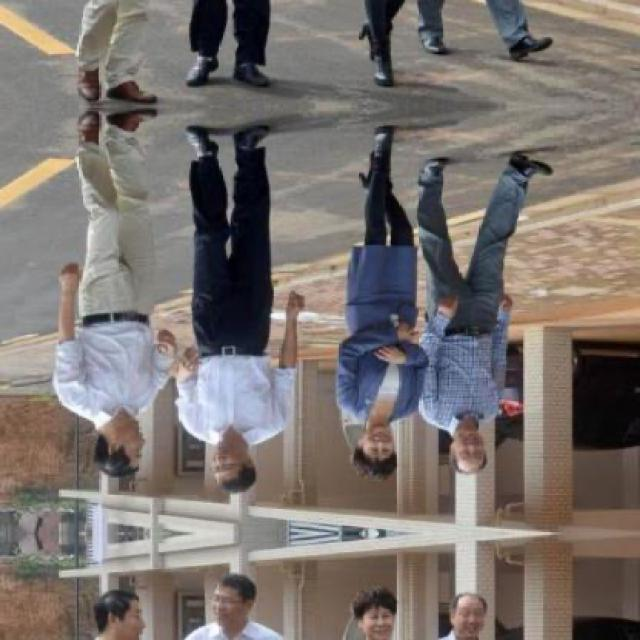sin casco: (97, 389, 197, 497), (204, 422, 266, 502), (363, 412, 418, 493), (441, 416, 505, 479)
